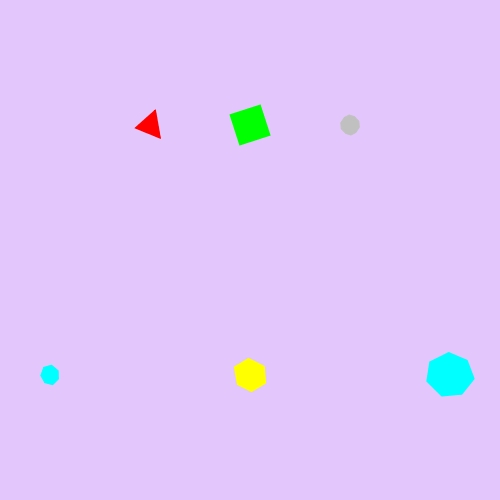decagon: (335, 111, 365, 139)
heptagon: (423, 349, 477, 401), (36, 361, 65, 389)
hexagon: (228, 357, 272, 394)
quadrilateral: (224, 99, 277, 152)
triangle: (133, 108, 167, 143)
